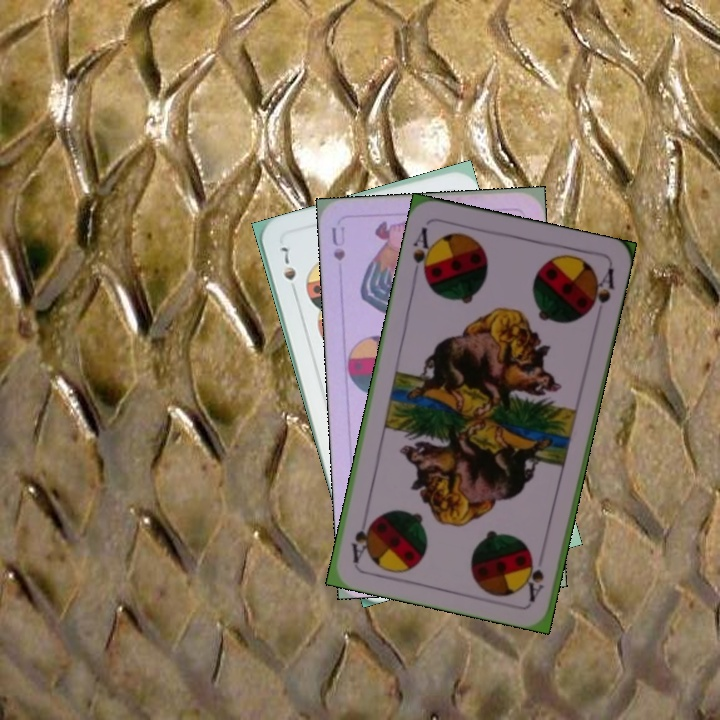S7: (276, 243, 300, 298)
SA: (408, 223, 438, 282), (523, 554, 547, 604)
SU: (327, 223, 348, 263)
